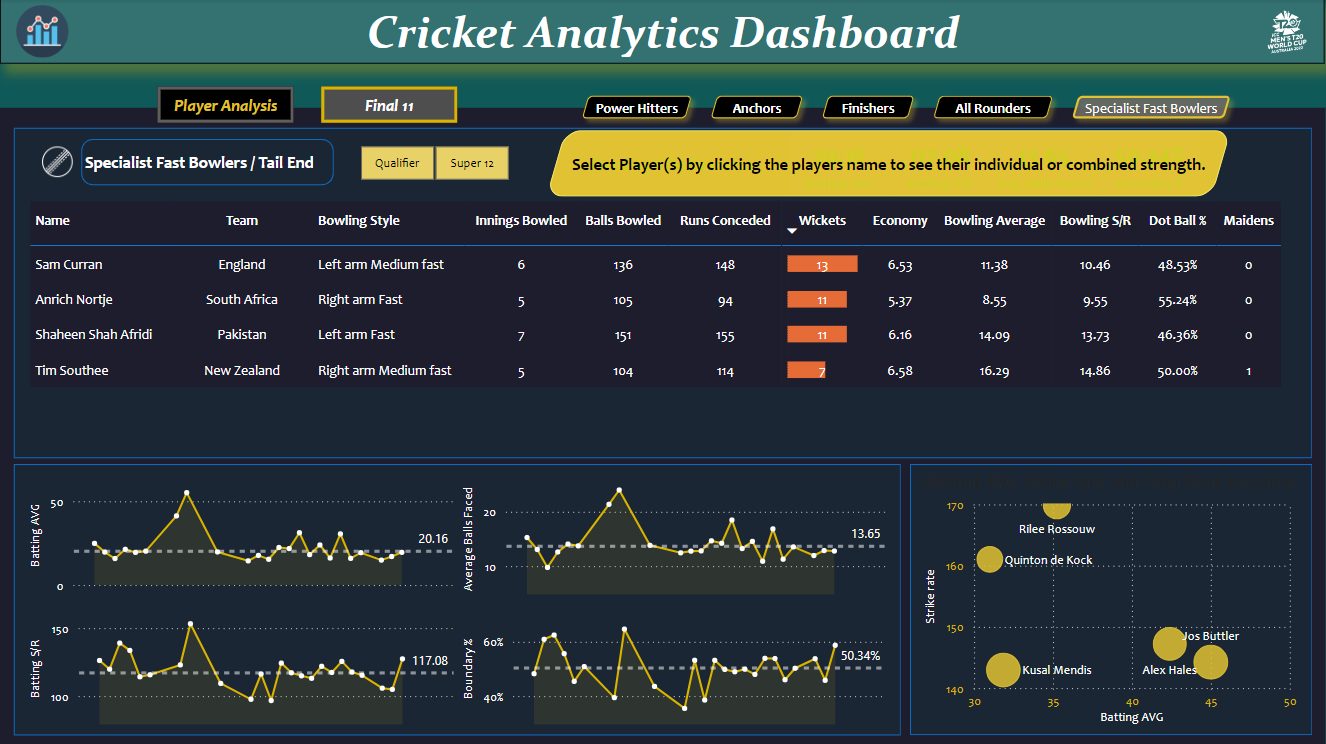

Layout of this report page (visuals, bound fields, positions):
{"tool":"powerbi","page":{"name":"New Specialist Fast Bowlers / Tail End","canvas":[1280,720],"ordinal":4},"visuals":[{"type":"shape","box":[893.7,400.4,355.8,309.9],"z":0},{"type":"shape","box":[914.2,399.2,342.5,311.2],"z":1000},{"type":"shape","box":[899.7,417.3,378.7,302.7],"z":2000},{"type":"shape","box":[0,104.9,1279.6,615.1],"z":3000},{"type":"shape","box":[13.3,449,856.3,262],"z":4000},{"type":"shape","box":[878,448.6,388.3,261.7],"z":5000},{"type":"scatterChart","fields":{"Category":["dim_player.name"],"X":["Key_Measures.Batting Avg"],"Y":["Key_Measures.Strike rate"],"Size":["Key_Measures.Total Runs"]},"box":[887.6,454.7,369,250.9],"z":6000},{"type":"shape","box":[13.3,124.2,1253.1,319],"z":7000},{"type":"tableEx","fields":{"Values":["dim_player.name","dim_player.team","dim_player.bowlingStyle","Key_Measures.Total Innings Bowled","Key_Measures.Balls Bowled","Key_Measures.Runs Conceded","Key_Measures.Wickets","Key_Measures.Economy","Key_Measures.Bowling Average","Key_Measures.Bowling Strike Rate","Key_Measures.Dot ball %","Sum(fact_bowling_summary.maiden)"]},"box":[23.3,191,1233,248],"z":8000},{"type":"slicer","fields":{"Values":["dim_match_summary.stage"]},"box":[322,135.1,193,45.8],"z":9000},{"type":"shape","box":[78.4,135.1,243.6,44.6],"z":10000},{"type":"shape","box":[527.3,127.1,660.9,63.9],"z":11000},{"type":"card","fields":{"Values":["Key_Measures.Batting Avg"]},"box":[762.5,127.1,95.3,63.9],"z":12000},{"type":"card","fields":{"Values":["Key_Measures.Strike rate"]},"box":[857.7,127.1,97.7,63.9],"z":13000},{"type":"card","fields":{"Values":["Key_Measures.Boundary %"]},"box":[1059.1,127.1,100.1,63.9],"z":14000},{"type":"card","fields":{"Values":["Key_Measures.Average Balls Faced"]},"box":[955.4,127.1,103.7,63.9],"z":15000},{"type":"shape","box":[558.6,138,183.3,43.4],"z":16000},{"type":"actionButton","box":[552.4,84.4,124.2,39.8],"z":17000},{"type":"actionButton","box":[676.6,84.4,107.3,39.8],"z":18000},{"type":"actionButton","box":[783.9,84.4,107.3,39.8],"z":19000},{"type":"actionButton","box":[891.3,84.4,133.9,39.8],"z":20000},{"type":"actionButton","box":[1025.1,84.4,171.3,39.8],"z":21000},{"type":"actionButton","box":[152,84.4,131.5,35],"z":23000},{"type":"actionButton","box":[309.9,84.4,131.5,35],"z":24000},{"type":"shape","box":[549.2,147.6,617.5,24.1],"z":25000},{"type":"image","box":[1218,2,47,59.1],"z":26000},{"type":"areaChart","fields":{"Y":["Key_Measures.Batting Avg"],"Category":["dim_match_summary.matchDate.Variation.Date Hierarchy.Day"]},"box":[24.1,455,418.5,125],"z":27000},{"type":"areaChart","fields":{"Y":["Key_Measures.Average Balls Faced"],"Category":["dim_match_summary.matchDate.Variation.Date Hierarchy.Day"]},"box":[441.4,455,418.5,125],"z":28000},{"type":"areaChart","fields":{"Y":["Key_Measures.Boundary %"],"Category":["dim_match_summary.matchDate.Variation.Date Hierarchy.Day"]},"box":[441.4,580,418.5,125],"z":29000},{"type":"areaChart","fields":{"Y":["Key_Measures.Strike rate"],"Category":["dim_match_summary.matchDate.Variation.Date Hierarchy.Day"]},"box":[24.1,580,418.5,125],"z":30000},{"type":"textbox","box":[0,0,1278.4,62],"z":31000},{"type":"image","box":[32.6,137.5,45.8,39.8],"z":32000},{"type":"image","box":[9,1,65.1,60],"z":32001}]}

Visuals, with their boxes in screenshot pixels (x1, y1, x2, y2), scaled from the page's 1280x720 canvas onto the 1326x744 screenshot:
shape: detection(926, 414, 1294, 734)
shape: detection(947, 413, 1302, 734)
shape: detection(932, 431, 1324, 743)
shape: detection(0, 108, 1325, 743)
shape: detection(14, 464, 901, 735)
shape: detection(910, 464, 1312, 734)
scatterChart - dim_player.name x Key_Measures.Batting Avg: detection(919, 470, 1302, 729)
shape: detection(14, 128, 1312, 458)
tableEx - dim_player.name x dim_player.team: detection(24, 197, 1301, 454)
slicer - dim_match_summary.stage: detection(334, 140, 534, 187)
shape: detection(81, 140, 334, 186)
shape: detection(546, 131, 1231, 197)
card - Key_Measures.Batting Avg: detection(790, 131, 889, 197)
card - Key_Measures.Strike rate: detection(889, 131, 990, 197)
card - Key_Measures.Boundary %: detection(1097, 131, 1201, 197)
card - Key_Measures.Average Balls Faced: detection(990, 131, 1097, 197)
shape: detection(579, 143, 769, 187)
actionButton: detection(572, 87, 701, 128)
actionButton: detection(701, 87, 812, 128)
actionButton: detection(812, 87, 923, 128)
actionButton: detection(923, 87, 1062, 128)
actionButton: detection(1062, 87, 1239, 128)
actionButton: detection(157, 87, 294, 123)
actionButton: detection(321, 87, 457, 123)
shape: detection(569, 153, 1209, 177)
image: detection(1262, 2, 1310, 63)
areaChart - Key_Measures.Batting Avg x dim_match_summary.matchDate.Variation.Date Hierarchy.Day: detection(25, 470, 459, 599)
areaChart - Key_Measures.Average Balls Faced x dim_match_summary.matchDate.Variation.Date Hierarchy.Day: detection(457, 470, 891, 599)
areaChart - Key_Measures.Boundary % x dim_match_summary.matchDate.Variation.Date Hierarchy.Day: detection(457, 599, 891, 729)
areaChart - Key_Measures.Strike rate x dim_match_summary.matchDate.Variation.Date Hierarchy.Day: detection(25, 599, 459, 729)
textbox: detection(0, 0, 1324, 64)
image: detection(34, 142, 81, 183)
image: detection(9, 1, 77, 63)
